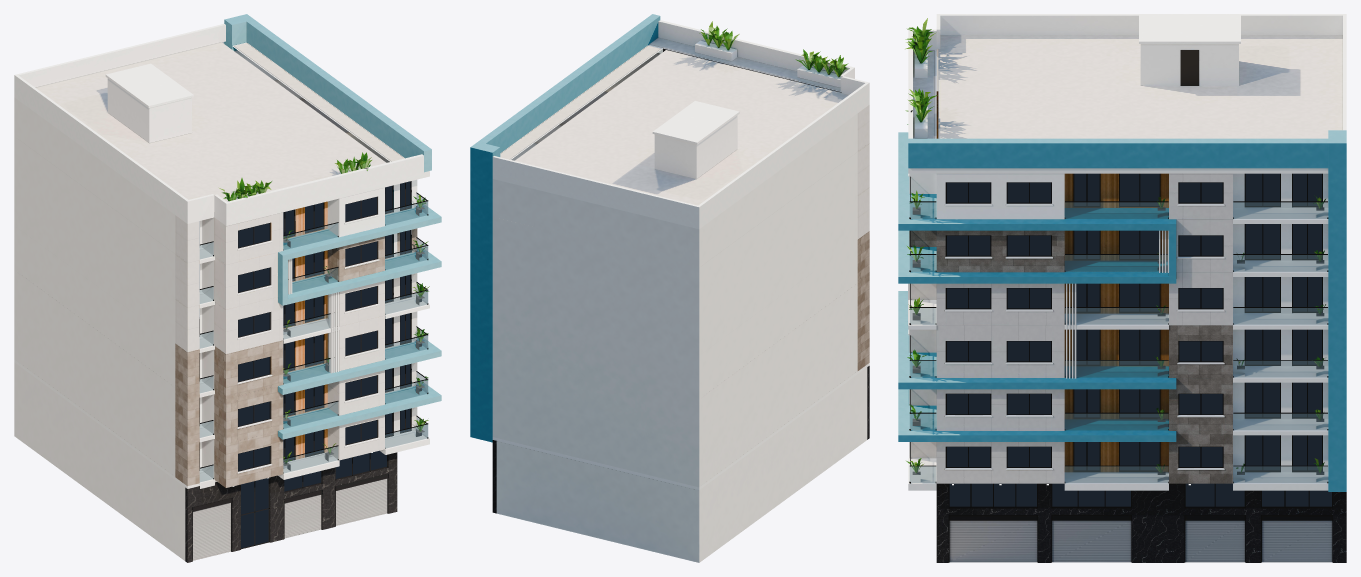
File: Imara_Teal_R6_HQ.glb
The picture shows the model from 3 angles, left to right: view 1: azimuth 30°, elevation 25°; view 2: azimuth 150°, elevation 25°; view 3: azimuth 270°, elevation 25°; orthographic projection. The views are drawn at different scales.
Parts seen in each view (by area): view 1: Imara_Party_Walls, Imara_Render_White, Imara_Roof_Concrete, Imara_Teal_Frames, Imara_Facade_Panels_Beige, Imara_Window_Glass, Imara_Stone_Cladding_Brown, Imara_Balcony_Glass_Railing, Imara_Window_Frames_Black, Imara_Shutters_Metal, Imara_Marble_Black_RDC, Imara_Wood_Cladding (+4 smaller); view 2: Imara_Party_Walls, Imara_Roof_Concrete, Imara_Render_White, Imara_Teal_Frames, Imara_Stone_Cladding_Brown, Imara_Facade_Panels_Beige, Imara_Plants_Green, Imara_Plants_Light, Imara_Marble_Black_RDC; view 3: Imara_Window_Glass, Imara_Render_White, Imara_Teal_Frames, Imara_Roof_Concrete, Imara_Facade_Panels_Beige, Imara_Balcony_Glass_Railing, Imara_Shutters_Metal, Imara_Window_Frames_Black, Imara_Stone_Cladding_Brown, Imara_Marble_Black_RDC, Imara_Wood_Cladding, Imara_Railing_Cap_Steel (+4 smaller).
Part boxes in pixels (<box>): Imara_Party_Walls: <box>14,97,199,560</box>; Imara_Render_White: <box>14,24,429,488</box>; Imara_Roof_Concrete: <box>36,42,404,201</box>; Imara_Teal_Frames: <box>224,14,441,439</box>; Imara_Facade_Panels_Beige: <box>175,212,417,460</box>; Imara_Window_Glass: <box>238,181,410,548</box>; Imara_Stone_Cladding_Brown: <box>175,209,417,487</box>; Imara_Balcony_Glass_Railing: <box>200,194,427,481</box>; Imara_Window_Frames_Black: <box>192,181,411,561</box>; Imara_Shutters_Metal: <box>193,478,387,560</box>; Imara_Marble_Black_RDC: <box>185,452,397,562</box>; Imara_Wood_Cladding: <box>270,201,327,459</box>; Imara_Party_Walls: <box>492,113,867,562</box>; Imara_Roof_Concrete: <box>500,37,848,205</box>; Imara_Render_White: <box>492,20,869,489</box>; Imara_Teal_Frames: <box>470,14,660,442</box>; Imara_Stone_Cladding_Brown: <box>857,231,869,370</box>; Imara_Facade_Panels_Beige: <box>857,105,869,239</box>; Imara_Plants_Green: <box>699,26,848,76</box>; Imara_Plants_Light: <box>701,21,846,76</box>; Imara_Marble_Black_RDC: <box>492,366,869,513</box>; Imara_Window_Glass: <box>947,173,1331,506</box>; Imara_Render_White: <box>908,14,1346,490</box>; Imara_Teal_Frames: <box>898,130,1346,491</box>; Imara_Roof_Concrete: <box>913,35,1342,138</box>; Imara_Facade_Panels_Beige: <box>909,49,1232,483</box>; Imara_Balcony_Glass_Railing: <box>910,202,1327,482</box>; Imara_Shutters_Metal: <box>949,520,1332,562</box>; Imara_Window_Frames_Black: <box>938,112,1332,562</box>; Imara_Stone_Cladding_Brown: <box>909,230,1232,483</box>; Imara_Marble_Black_RDC: <box>936,483,1346,562</box>; Imara_Wood_Cladding: <box>936,91,1168,472</box>; Imara_Railing_Cap_Steel: <box>909,176,1328,483</box>.
Bounding box in the file's own units: 17.85 × 27.45 × 24.6.
Materials: 18 (16 with a texture image).
